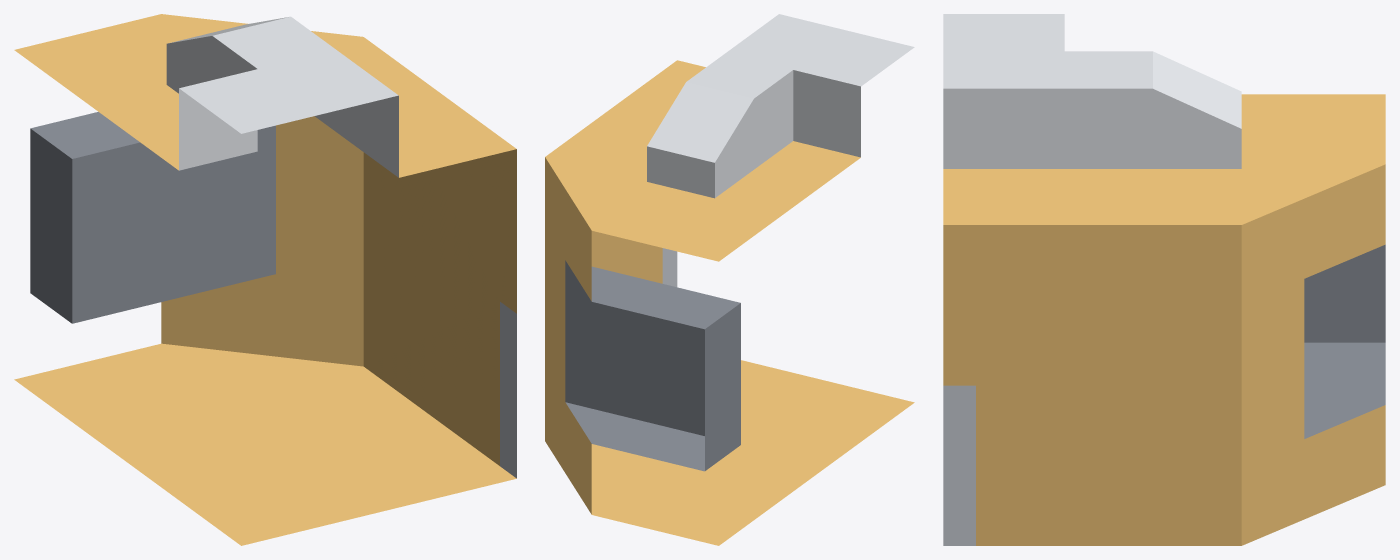
The picture shows the model from 3 angles, left to right: view 1: azimuth 30°, elevation 25°; view 2: azimuth 150°, elevation 25°; view 3: azimuth 270°, elevation 25°; orthographic projection. The views are drawn at different scales.
Size of the model in its own units: 0.7 by 1 by 1.
